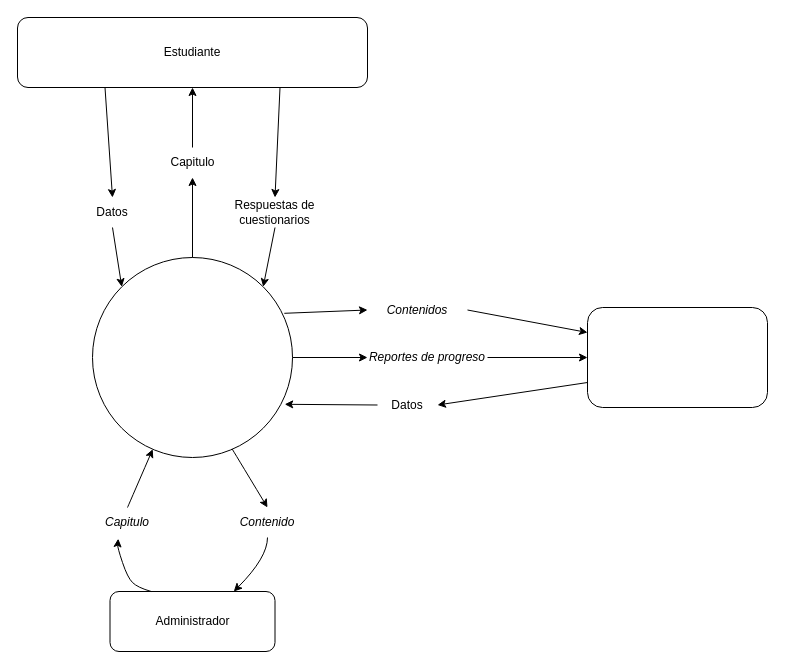
Image size: 785x669. Some labels were removed from this diagram. Here are the shapes that lost their labels. From the top down, the centre of each, then its label:
At (192,357): "Libro Virtual Interactivo de Biología (Web)".
At (677,357): "Docente".
